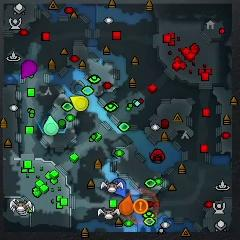Other: (134, 199, 148, 214)
p1: (112, 178, 127, 198)
p2: (43, 115, 60, 135)
p3: (20, 59, 37, 79)
p4: (70, 96, 89, 112)
p5: (118, 195, 133, 215)
